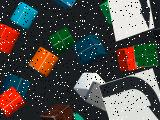Right: (98, 68, 160, 120), (108, 0, 154, 42)
